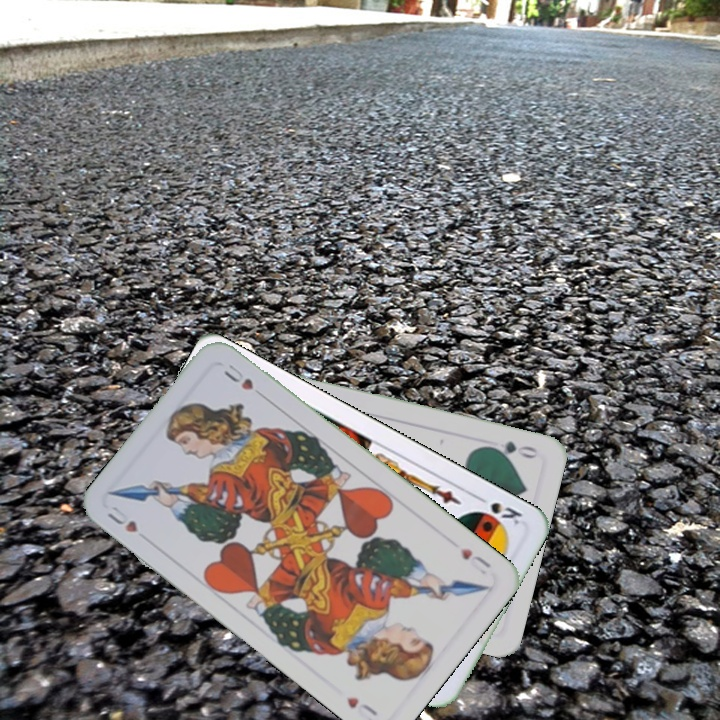GO: (482, 436, 541, 462)
HU: (103, 502, 140, 536), (455, 544, 494, 571)
SK: (471, 491, 525, 528)
